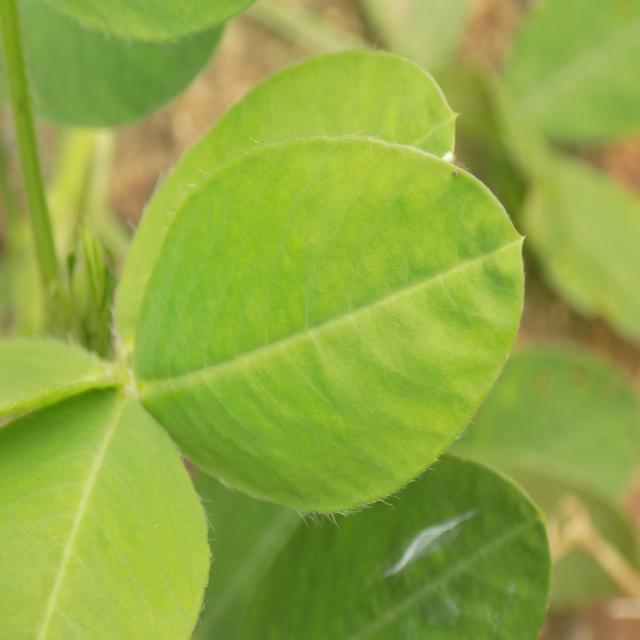Ground nut_healthy: (122, 140, 531, 518), (115, 48, 455, 376)
